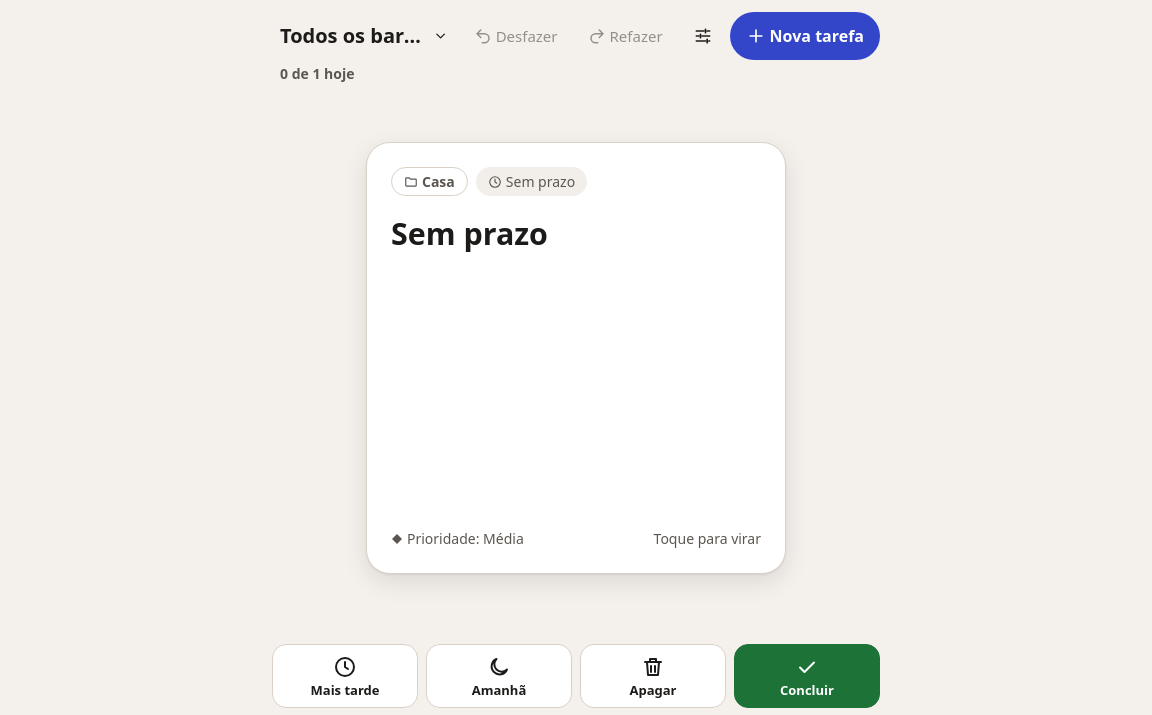
it: export from settings › disables the export when nothing has a due date, and explains the limits
The width and height of the screenshot is (1152, 715).
Click the button named "Configurações".
click(703, 36)  # box [680,12,726,60]
(page scrolled)
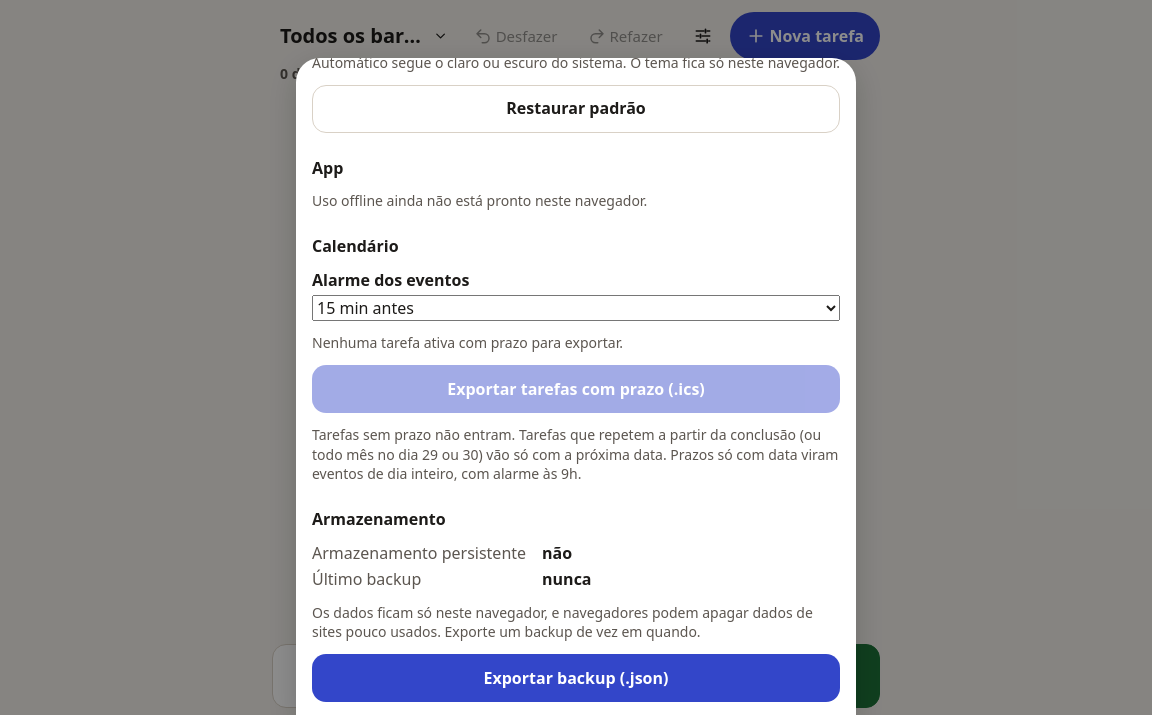
Result: the button "Exportar tarefas com prazo (.ics)" is disabled at [312,365,840,413]
